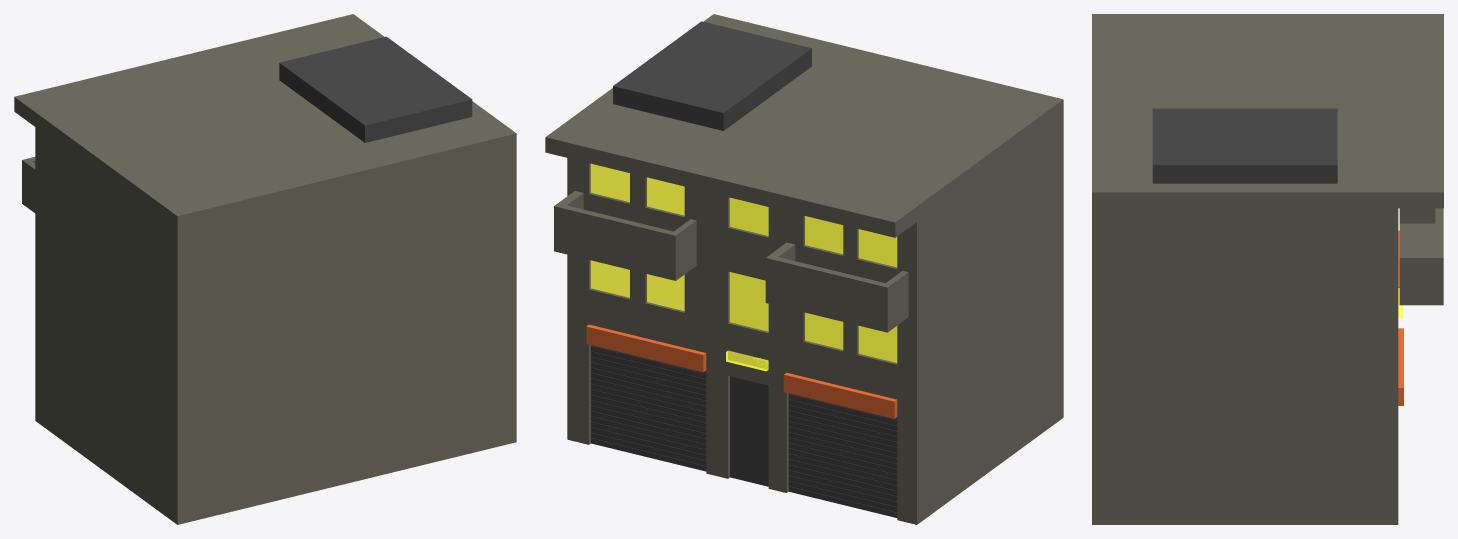
The model's file is apartment_02.fbx.
The picture shows the model from 3 angles, left to right: view 1: azimuth 30°, elevation 25°; view 2: azimuth 150°, elevation 25°; view 3: azimuth 270°, elevation 25°; orthographic projection. The views are drawn at different scales.
Visible parts, largest first — view 1: apartment_02; view 2: apartment_02; view 3: apartment_02.
Boxes of the visible parts, bbox=[...] form: apartment_02: bbox=[14, 14, 516, 524]; apartment_02: bbox=[545, 14, 1063, 524]; apartment_02: bbox=[1092, 14, 1443, 524].
Bounding box in the file's own units: 1602 × 1472 × 1335.
